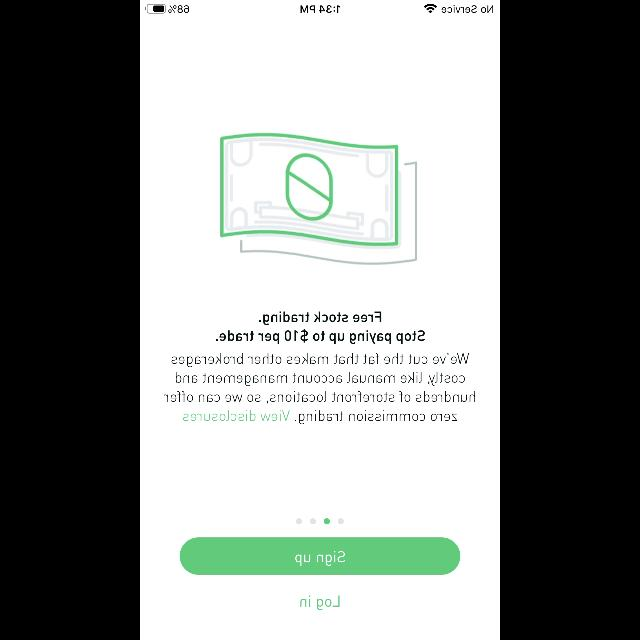image: (220, 133, 418, 265)
pageindicator: (296, 518, 344, 524)
text: (163, 354, 474, 424), (216, 328, 424, 344), (259, 312, 381, 324), (300, 596, 340, 610)
textbutton: (180, 538, 460, 574)
uppertaskbar: (140, 0, 500, 14)
